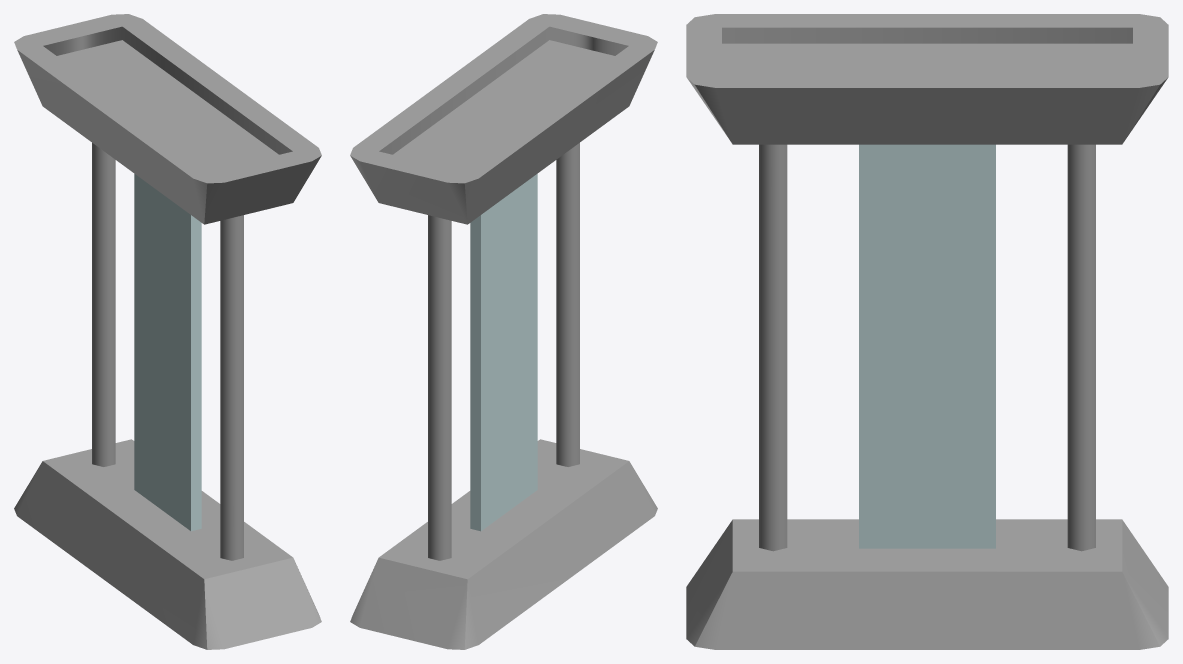
The model's file is GlassWall_General.fbx.
3 views of the same model, side by side, from view 1: azimuth 30°, elevation 25°; view 2: azimuth 150°, elevation 25°; view 3: azimuth 270°, elevation 25° (orthographic). The views are drawn at different scales.
Visible parts, largest first — view 1: Table_Top, Table_Bottom, Glass, Pillar_Right2, Pillar_Right; view 2: Table_Top, Table_Bottom, Glass, Pillar_Right, Pillar_Right2; view 3: Table_Top, Glass, Table_Bottom, Pillar_Right, Pillar_Right2.
Part boxes in pixels (x1=…): Table_Top: x1=14, y1=14, x2=321, y2=224; Table_Bottom: x1=14, y1=439, x2=321, y2=649; Glass: x1=134, y1=174, x2=201, y2=531; Pillar_Right2: x1=220, y1=215, x2=243, y2=560; Pillar_Right: x1=92, y1=143, x2=115, y2=466; Table_Top: x1=350, y1=14, x2=657, y2=224; Table_Bottom: x1=350, y1=439, x2=657, y2=649; Glass: x1=470, y1=174, x2=537, y2=531; Pillar_Right: x1=428, y1=215, x2=451, y2=560; Pillar_Right2: x1=556, y1=143, x2=579, y2=466; Table_Top: x1=686, y1=14, x2=1168, y2=144; Glass: x1=859, y1=144, x2=995, y2=548; Table_Bottom: x1=686, y1=519, x2=1168, y2=649; Pillar_Right: x1=1067, y1=144, x2=1095, y2=551; Pillar_Right2: x1=759, y1=144, x2=787, y2=551.
Size of the model in its own units: 102 by 360 by 280.
